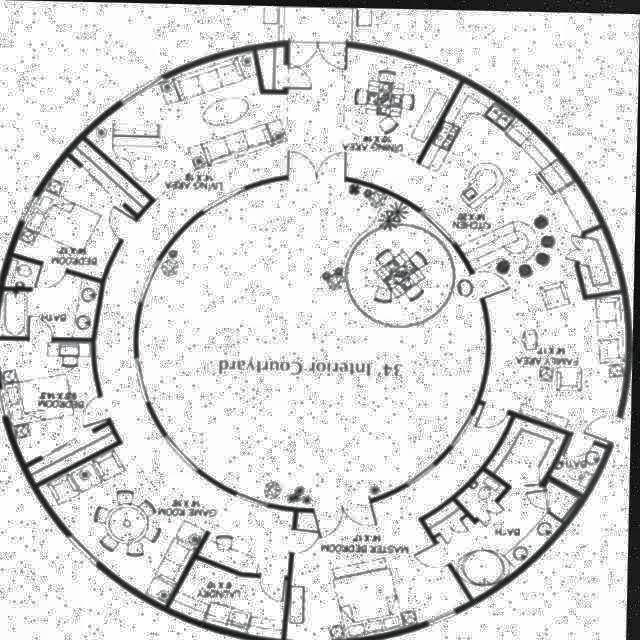room: (135, 172, 493, 512), (272, 369, 512, 640), (71, 198, 238, 541), (80, 37, 310, 245), (408, 401, 609, 605), (238, 32, 460, 198), (35, 426, 225, 619), (14, 153, 142, 289), (0, 322, 113, 464), (175, 555, 299, 639), (199, 491, 306, 583), (0, 257, 103, 351), (72, 140, 150, 214), (30, 425, 119, 483)
